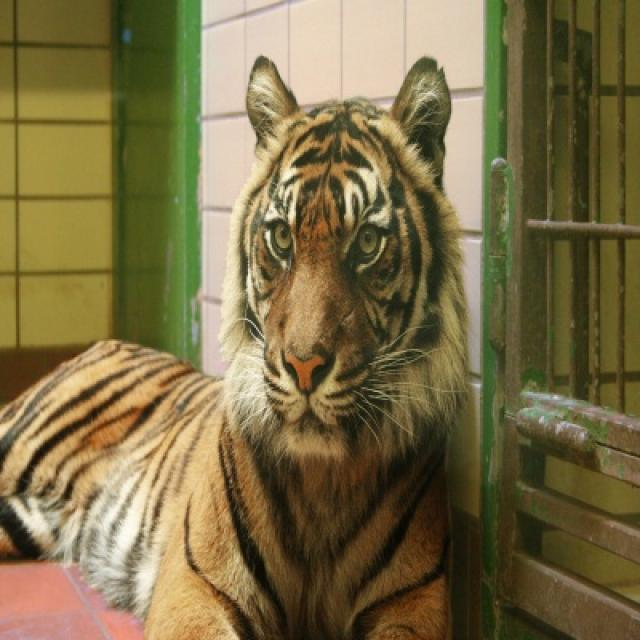Tiger: (0, 58, 466, 638)
